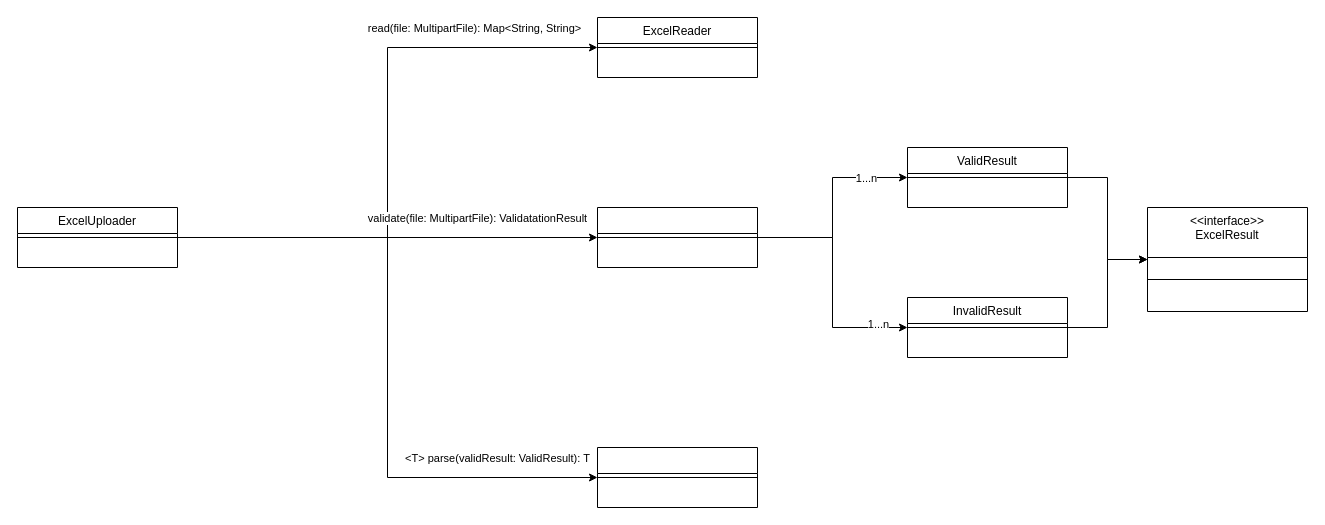
Some shapes in this 1325 by 525 pixel diagram are drawn without their labels. The box of each missing label's shape, as (x1, y1, x2, y2) in pixels:
ExcelParser: (596, 446, 758, 508)
ExcelValidator: (596, 206, 758, 268)
